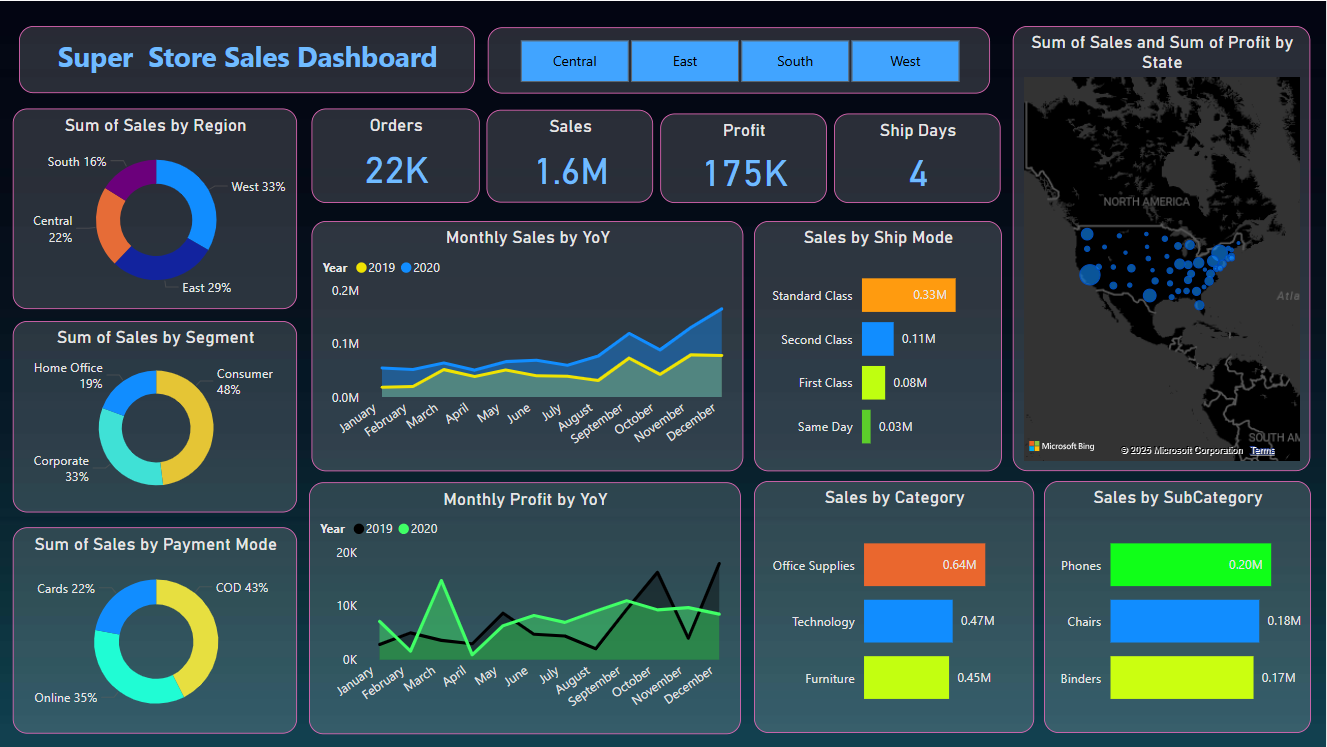

What the dashboard file says about the page in this screenshot:
{"tool":"powerbi","page":{"name":"Dashboard","canvas":[1280,720],"ordinal":0},"visuals":[{"type":"clusteredBarChart","title":" Sales by Category","fields":{"Category":["SuperStore_Sales_Dataset.Category"],"Y":["Sum(SuperStore_Sales_Dataset.Sales)"]},"box":[728.2,463.6,270.2,243.2],"z":0},{"type":"clusteredBarChart","title":" Sales by SubCategory","fields":{"Category":["SuperStore_Sales_Dataset.Sub-Category"],"Y":["Sum(SuperStore_Sales_Dataset.Sales)"]},"box":[1008.4,463.6,257.4,243.2],"z":1000},{"type":"barChart","title":" Sales by Ship Mode","fields":{"Category":["SuperStore_Sales_Dataset.Ship Mode"],"Y":["Sum(SuperStore_Sales_Dataset.Sales)"]},"box":[728.2,211.9,238.9,241.8],"z":2000},{"type":"areaChart","title":"Monthly Profit by YoY","fields":{"Series":["SuperStore_Sales_Dataset.Order Date.Variation.Date Hierarchy.Year"],"Y":["Sum(SuperStore_Sales_Dataset.Profit)"],"Category":["SuperStore_Sales_Dataset.Order Date.Variation.Date Hierarchy.Month","SuperStore_Sales_Dataset.Order Date.Variation.Date Hierarchy.Day"]},"box":[298.7,465.1,416.7,243.2],"z":3000},{"type":"areaChart","title":"Monthly Sales by YoY","fields":{"Y":["Sum(SuperStore_Sales_Dataset.Sales)"],"Category":["SuperStore_Sales_Dataset.Order Date.Variation.Date Hierarchy.Month","SuperStore_Sales_Dataset.Order Date.Variation.Date Hierarchy.Day"],"Series":["SuperStore_Sales_Dataset.Order Date.Variation.Date Hierarchy.Year"]},"box":[301.5,211.9,416.7,241.8],"z":4000},{"type":"map","fields":{"Category":["SuperStore_Sales_Dataset.State"],"Size":["Sum(SuperStore_Sales_Dataset.Sales)"]},"box":[978.5,24.2,287.3,429.5],"z":5000},{"type":"donutChart","fields":{"Category":["SuperStore_Sales_Dataset.Region"],"Y":["Sum(SuperStore_Sales_Dataset.Sales)"]},"box":[12.8,103.8,274.5,193.4],"z":6000},{"type":"donutChart","fields":{"Y":["Sum(SuperStore_Sales_Dataset.Sales)"],"Category":["SuperStore_Sales_Dataset.Payment Mode"]},"box":[12.8,507.7,274.5,199.1],"z":7000},{"type":"slicer","fields":{"Values":["SuperStore_Sales_Dataset.Region"]},"box":[472.2,25.6,485,64],"z":8000},{"type":"textbox","box":[18.8,23.8,440,65],"z":9000},{"type":"card","title":"Sales","fields":{"Values":["Sum(SuperStore_Sales_Dataset.Sales)"]},"box":[470.8,105.2,160.7,89.6],"z":10000},{"type":"card","title":"Orders","fields":{"Values":["Sum(SuperStore_Sales_Dataset.Quantity)"]},"box":[301.5,103.8,162,91],"z":11000},{"type":"card","title":"Profit","fields":{"Values":["Sum(SuperStore_Sales_Dataset.Profit)"]},"box":[638.6,108.1,160.7,86.8],"z":12000},{"type":"card","title":"Ship Days","fields":{"Values":["Avg(SuperStore_Sales_Dataset.AvgDelivery)"]},"box":[806.4,108.1,160.7,86.8],"z":13000},{"type":"donutChart","fields":{"Category":["SuperStore_Sales_Dataset.Segment"],"Y":["Sum(SuperStore_Sales_Dataset.Sales)"]},"box":[12.8,308.6,274.5,184.9],"z":14000}]}

Visuals, with their boxes in screenshot pixels (x1, y1, x2, y2), scaled from the page's 1280x720 canvas onto the 1327x747 screenshot:
" Sales by Category" clusteredBarChart: crop(755, 481, 1035, 733)
" Sales by SubCategory" clusteredBarChart: crop(1045, 481, 1312, 733)
" Sales by Ship Mode" barChart: crop(755, 220, 1003, 471)
"Monthly Profit by YoY" areaChart: crop(310, 483, 742, 735)
"Monthly Sales by YoY" areaChart: crop(313, 220, 745, 471)
map - SuperStore_Sales_Dataset.State x Sum(SuperStore_Sales_Dataset.Sales): crop(1014, 25, 1312, 471)
donutChart - SuperStore_Sales_Dataset.Region x Sum(SuperStore_Sales_Dataset.Sales): crop(13, 108, 298, 308)
donutChart - Sum(SuperStore_Sales_Dataset.Sales) x SuperStore_Sales_Dataset.Payment Mode: crop(13, 527, 298, 733)
slicer - SuperStore_Sales_Dataset.Region: crop(490, 27, 992, 93)
textbox: crop(19, 25, 476, 92)
"Sales" card: crop(488, 109, 655, 202)
"Orders" card: crop(313, 108, 481, 202)
"Profit" card: crop(662, 112, 829, 202)
"Ship Days" card: crop(836, 112, 1003, 202)
donutChart - SuperStore_Sales_Dataset.Segment x Sum(SuperStore_Sales_Dataset.Sales): crop(13, 320, 298, 512)
